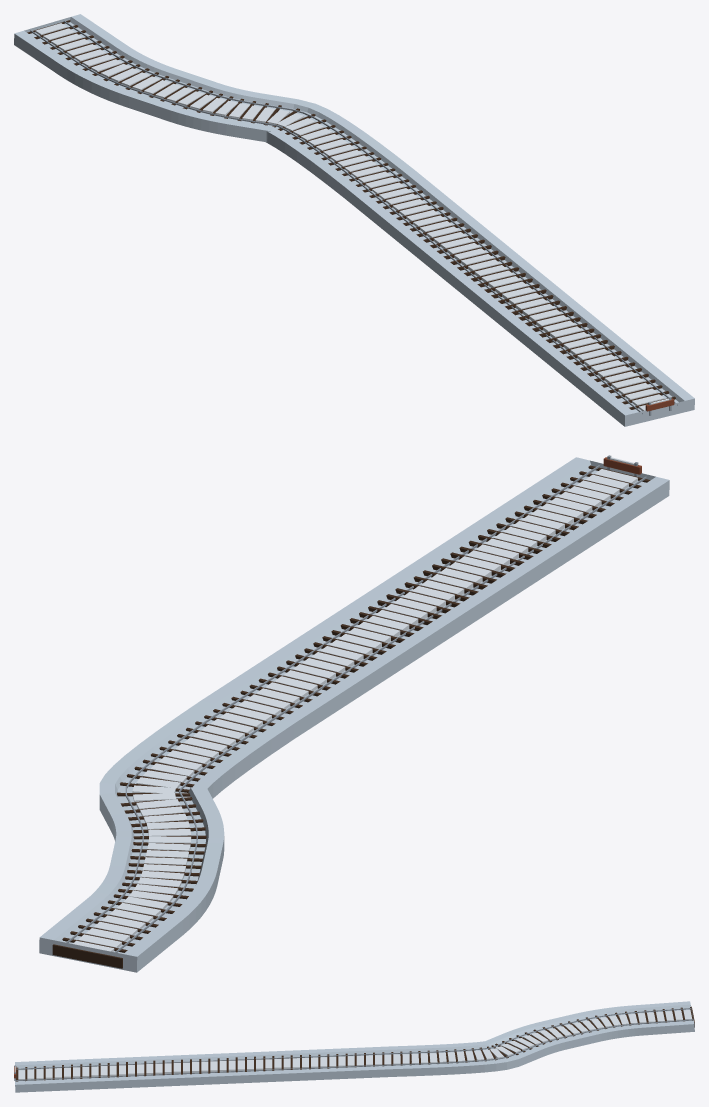
The model's file is Siding_-2_-2.fbx.
3 renders of one model, top to bottom at view 1: azimuth 30°, elevation 25°; view 2: azimuth 150°, elevation 25°; view 3: azimuth 270°, elevation 25°, orthographic. The views are drawn at different scales.
Parts seen in each view (by area): view 1: Siding_-2_-2; view 2: Siding_-2_-2; view 3: Siding_-2_-2.
Part boxes in pixels (x1,y1,x2,y2): Siding_-2_-2: (14, 14, 694, 426); Siding_-2_-2: (39, 455, 669, 972); Siding_-2_-2: (14, 1001, 694, 1092).
Bounding box in the file's own units: 2978 × 815 × 14882.
